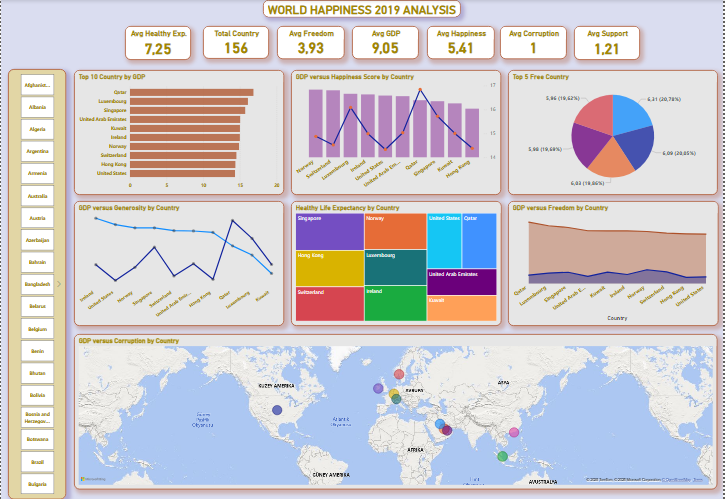

What the dashboard file says about the page in this screenshot:
{"tool":"powerbi","page":{"name":"2019","canvas":[1850,1280],"ordinal":0},"visuals":[{"type":"textbox","title":"WORLD HAPPINESS 2019 ANALYSIS","box":[671.2,0,505.8,44.2],"z":0},{"type":"card","title":"Avg GDP","fields":{"Values":["Avg(2019.GDP adj)"]},"box":[897.6,65.9,170.7,85.4],"z":1000},{"type":"card","title":"Total Country ","fields":{"Values":["CountNonNull(2019.Country)"]},"box":[517.8,66.7,168.9,84.4],"z":2000},{"type":"card","title":"Avg Freedom","fields":{"Values":["Avg(2019.Freedom adj)"]},"box":[707.3,65.9,173.2,85.4],"z":3000},{"type":"card","title":"Avg Happiness","fields":{"Values":["Avg(2019.Hpn Score)"]},"box":[1090.2,65.9,173.2,85.4],"z":4000},{"type":"card","title":"Avg Corruption","fields":{"Values":["Avg(2019.Corruption adj)"]},"box":[1278,65.9,170.7,85.4],"z":5000},{"type":"slicer","fields":{"Values":["2019.Country"]},"box":[17.8,177.8,148.9,1102.2],"z":6000},{"type":"barChart","title":"Top 10 Country by GDP ","fields":{"Category":["2019.Country"],"Y":["Sum(2019.GDP adj)"]},"box":[186.9,178.7,537.7,319.7],"z":7000},{"type":"lineClusteredColumnComboChart","title":"GDP versus Happiness Score by Country","fields":{"Category":["2019.Country"],"Y":["Avg(2019.Hpn Score)"],"Y2":["Sum(2019.GDP adj)"]},"box":[742.6,178.7,537.7,319.7],"z":8000},{"type":"lineChart","title":"GDP versus Generosity by Country","fields":{"Category":["2019.Country"],"Y":["Avg(2019.Generosity adj)"],"Y2":["Sum(2019.GDP adj)"]},"box":[186.9,514.8,537.7,319.7],"z":9000},{"type":"treemap","title":"Healthy Life Expectancy by Country","fields":{"Group":["2019.Country"],"Values":["Sum(2019.Healthy adj)"]},"box":[741.5,514.6,539,319.5],"z":10000},{"type":"pieChart","title":"Top 5 Free Country","fields":{"Category":["2019.Country"],"Y":["Sum(2019.Freedom adj)"]},"box":[1297.6,178,536.6,319.5],"z":11000},{"type":"areaChart","title":"GDP versus Freedom by Country","fields":{"Category":["2019.Country"],"Y":["Sum(2019.GDP adj)","Sum(2018.Freedom adj)"]},"box":[1297.6,514.6,539,319.5],"z":12000},{"type":"card","title":"Avg Support","fields":{"Values":["Avg(2019.Social Support adj)"]},"box":[1466.7,66.7,168.9,86.7],"z":13000},{"type":"card","title":"Avg Healthy Exp.","fields":{"Values":["Avg(2019.Healthy adj)"]},"box":[317.8,66.7,168.9,86.7],"z":14000},{"type":"map","title":"GDP versus Corruption by Country","fields":{"Category":["2019.Country"],"Size":["Avg(2019.GDP adj)"],"Series":["2019.Corruption adj"]},"box":[186.7,855.6,1646.7,397.8],"z":15000}]}

Visuals, with their boxes in screenshot pixels (x1, y1, x2, y2), scaled from the page's 1850x1280 canvas onto the 725x499 screenshot:
"WORLD HAPPINESS 2019 ANALYSIS" textbox: bbox=[263, 0, 461, 17]
"Avg GDP" card: bbox=[352, 26, 419, 59]
"Total Country " card: bbox=[203, 26, 269, 59]
"Avg Freedom" card: bbox=[277, 26, 345, 59]
"Avg Happiness" card: bbox=[427, 26, 495, 59]
"Avg Corruption" card: bbox=[501, 26, 568, 59]
slicer - 2019.Country: bbox=[7, 69, 65, 498]
"Top 10 Country by GDP " barChart: bbox=[73, 70, 284, 194]
"GDP versus Happiness Score by Country" lineClusteredColumnComboChart: bbox=[291, 70, 502, 194]
"GDP versus Generosity by Country" lineChart: bbox=[73, 201, 284, 325]
"Healthy Life Expectancy by Country" treemap: bbox=[291, 201, 502, 325]
"Top 5 Free Country" pieChart: bbox=[509, 69, 719, 194]
"GDP versus Freedom by Country" areaChart: bbox=[509, 201, 720, 325]
"Avg Support" card: bbox=[575, 26, 641, 60]
"Avg Healthy Exp." card: bbox=[125, 26, 191, 60]
"GDP versus Corruption by Country" map: bbox=[73, 334, 718, 489]
